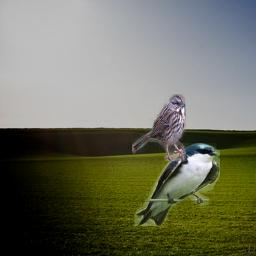Sparrow: (132, 94, 186, 161)
Swallow: (134, 143, 220, 226)
